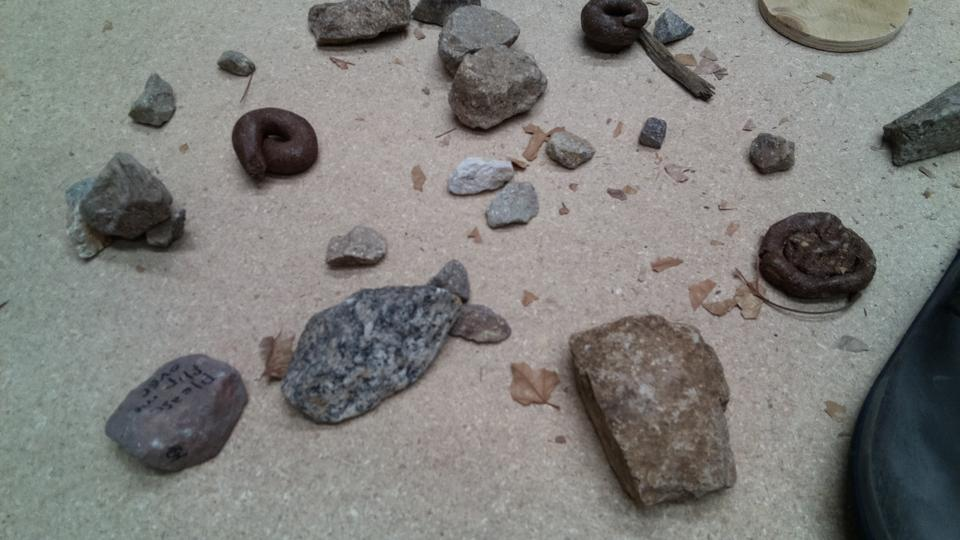poop: (756, 210, 880, 306), (229, 105, 321, 182), (579, 1, 650, 55)
